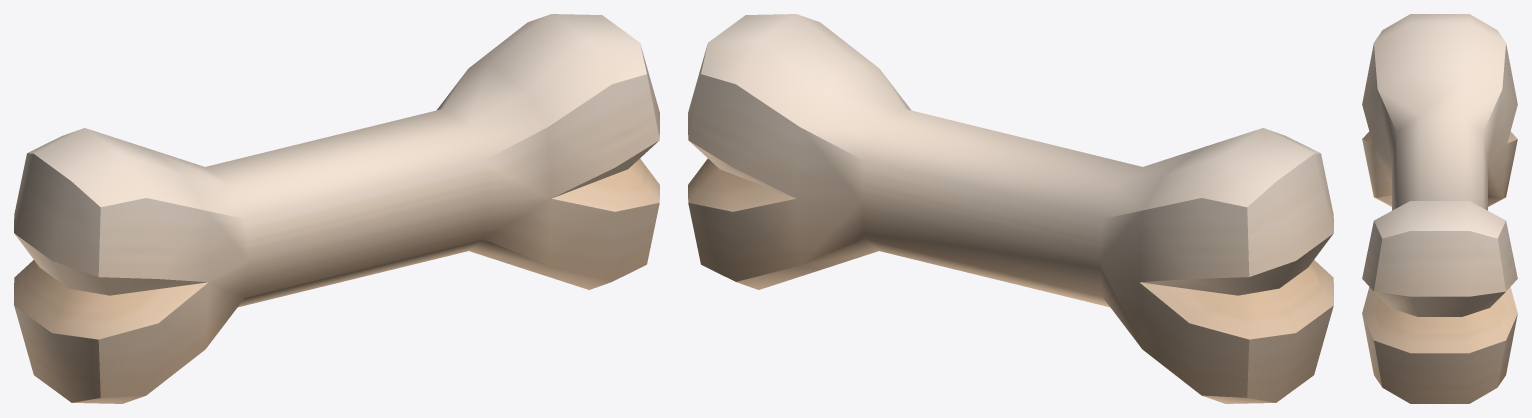
The model's file is bone-a.glb.
The picture shows the model from 3 angles, left to right: view 1: azimuth 30°, elevation 25°; view 2: azimuth 150°, elevation 25°; view 3: azimuth 270°, elevation 25°; orthographic projection. The views are drawn at different scales.
Visible parts, largest first — view 1: bone_A; view 2: bone_A; view 3: bone_A.
Boxes of the visible parts, left/top/right/bottom form: bone_A: left=14, top=14, right=659, bottom=403; bone_A: left=688, top=14, right=1333, bottom=403; bone_A: left=1362, top=14, right=1517, bottom=403.
Size of the model in its own units: 0.707 by 0.2761 by 0.2007.
Materials: 1 (1 with a texture image).
